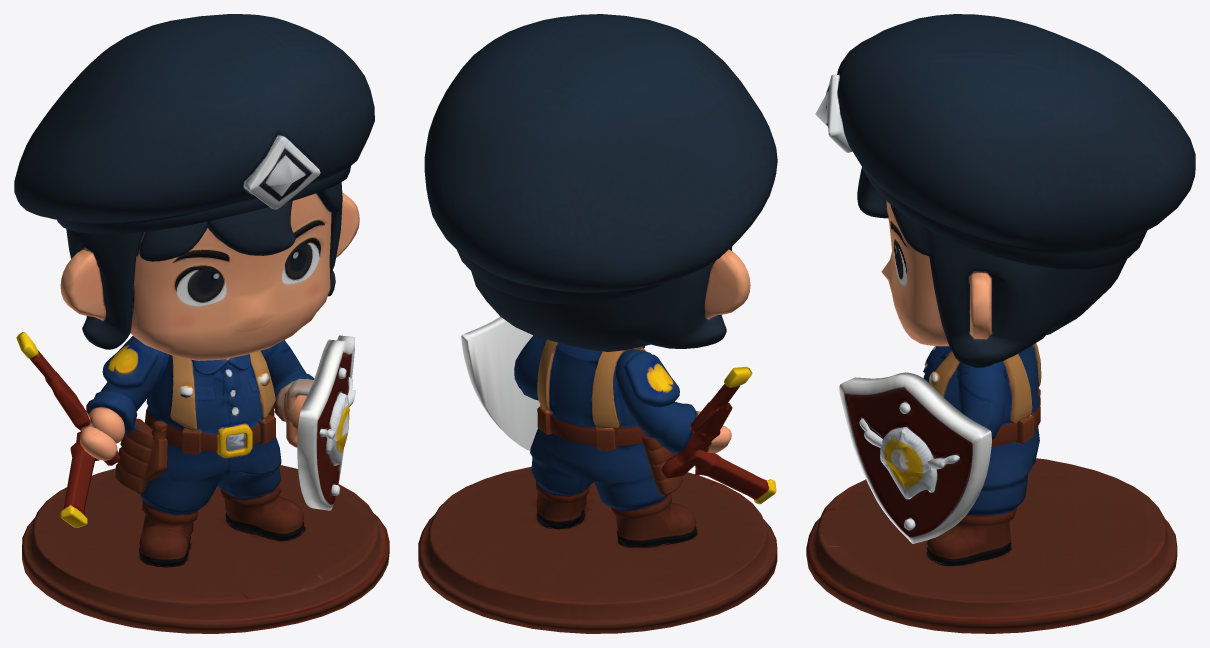
Rendered from thai-pawn.glb.
3 renders of one model, left to right at view 1: azimuth 30°, elevation 25°; view 2: azimuth 150°, elevation 25°; view 3: azimuth 270°, elevation 25°, orthographic. The views are drawn at different scales.
Visible parts, largest first — view 1: tripo_node_5ce1e762-996f-4ca7-8c97-9cf4114d2c90; view 2: tripo_node_5ce1e762-996f-4ca7-8c97-9cf4114d2c90; view 3: tripo_node_5ce1e762-996f-4ca7-8c97-9cf4114d2c90.
Boxes of the visible parts, <box> form: tripo_node_5ce1e762-996f-4ca7-8c97-9cf4114d2c90: <box>14,14,389,633</box>; tripo_node_5ce1e762-996f-4ca7-8c97-9cf4114d2c90: <box>418,14,777,633</box>; tripo_node_5ce1e762-996f-4ca7-8c97-9cf4114d2c90: <box>806,14,1195,633</box>.
Size of the model in its own units: 0.6636 by 0.9995 by 0.6714.
Materials: 1 (1 with a texture image).
